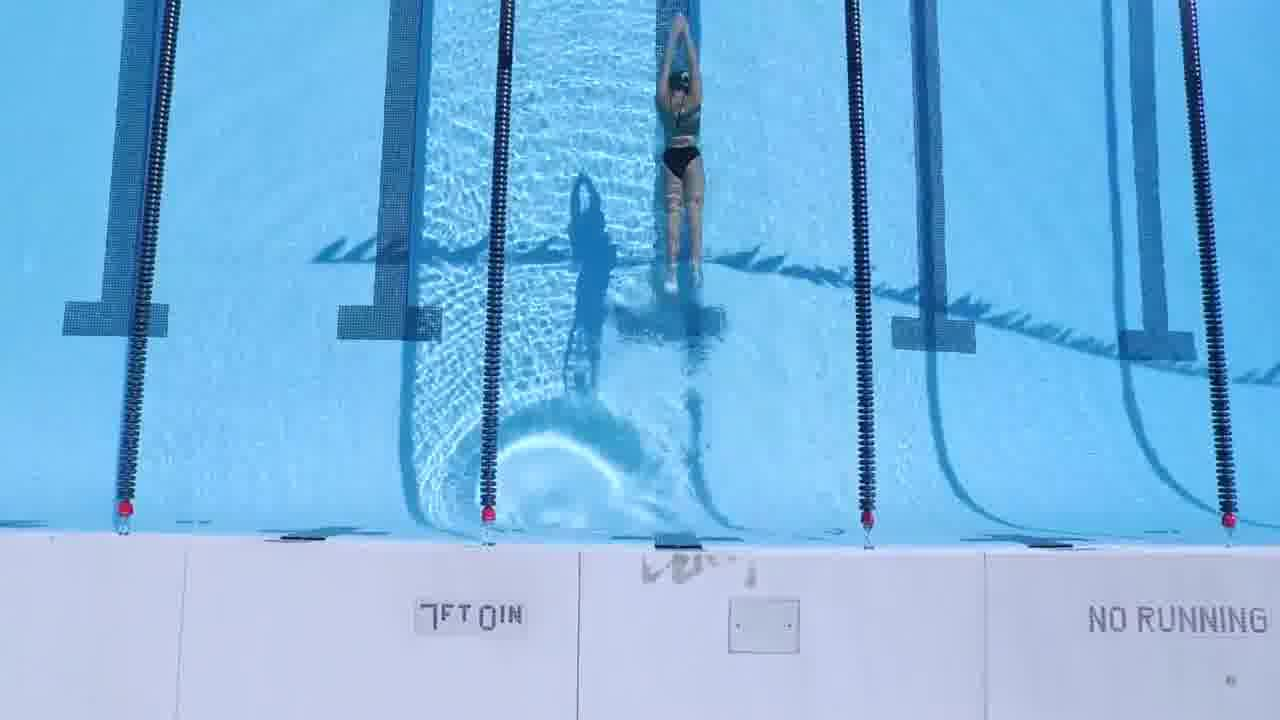human: (649, 8, 712, 304)
